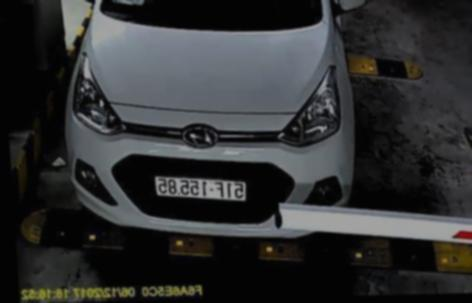License_Plate: (149, 172, 253, 206)
